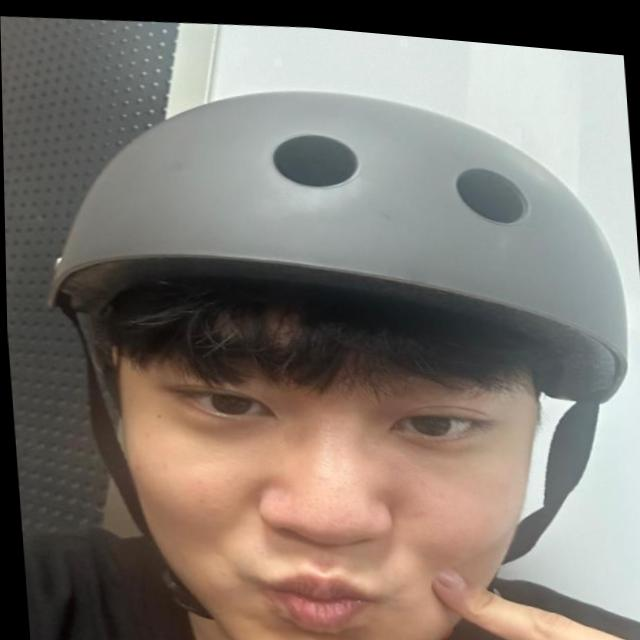helmet: (29, 46, 640, 640)
